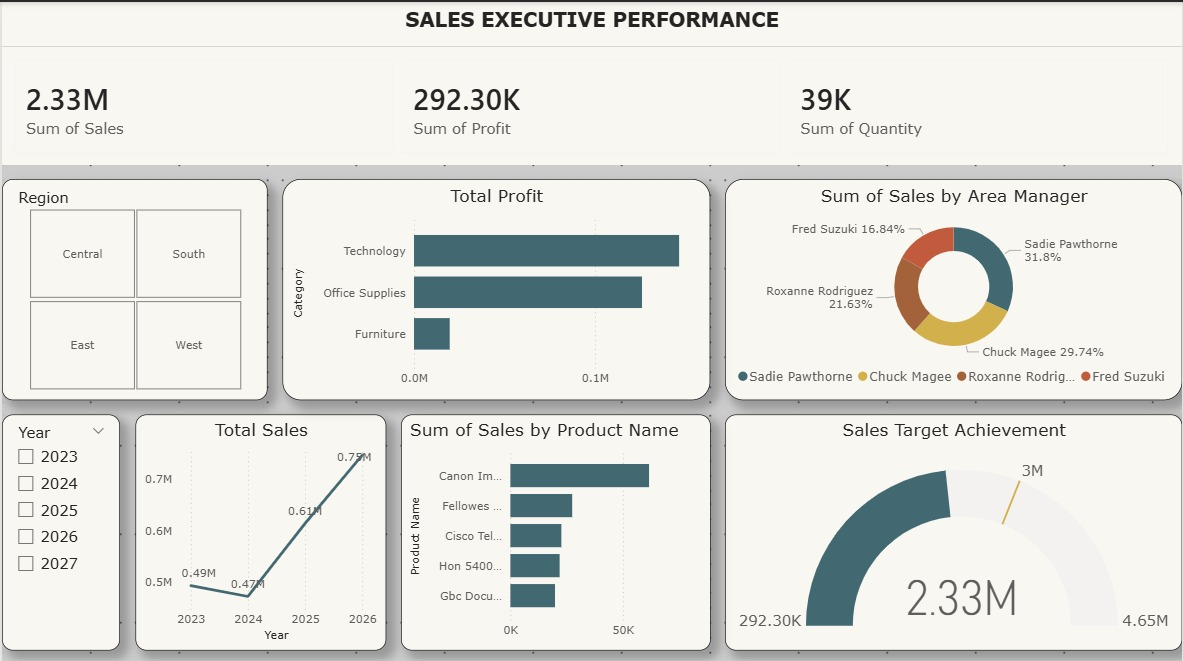

This screenshot's page, from the dashboard's own definition file:
{"tool":"powerbi","page":{"name":"Page 1","canvas":[1280,720],"ordinal":0},"visuals":[{"type":"donutChart","fields":{"Category":["People.Area Manager"],"Y":["Sum(Orders.Sales)"]},"box":[784,192,496,240],"z":0},{"type":"slicer","fields":{"Values":["Orders.Region"]},"box":[0,192,288,240],"z":2000},{"type":"lineChart","title":"Total Sales","fields":{"Category":["Orders.Order Date.Variation.Date Hierarchy.Year","Orders.Order Date.Variation.Date Hierarchy.Quarter","Orders.Order Date.Variation.Date Hierarchy.Month","Orders.Order Date.Variation.Date Hierarchy.Day"],"Y":["Sum(Orders.Sales)"]},"box":[144,448,272,256],"z":3000},{"type":"clusteredBarChart","title":"Total Profit","fields":{"Category":["Orders.Category"],"Y":["Sum(Orders.Profit)"]},"box":[304,192,464,240],"z":4000},{"type":"gauge","title":"Sales Target Achievement","fields":{"MinValue":["Sum(Orders.Profit)"],"TargetValue":["Orders.Target Sales"],"Y":["Sum(Orders.Sales)"]},"box":[784,448,496,256],"z":5000},{"type":"slicer","fields":{"Values":["Orders.Ship Date.Variation.Date Hierarchy.Year"]},"box":[0,448,128,256],"z":6000},{"type":"cardVisual","fields":{"Data":["Sum(Orders.Sales)","Sum(Orders.Profit)","Sum(Orders.Quantity)"]},"box":[0,48,1280,128],"z":7000},{"type":"clusteredBarChart","fields":{"Category":["Orders.Product Name"],"Y":["Sum(Orders.Sales)"]},"box":[432,448,336,256],"z":8000},{"type":"textbox","box":[0,0,1280,48],"z":9000}]}

Visuals, with their boxes in screenshot pixels (x1, y1, x2, y2), scaled from the page's 1280x720 canvas onto the 1183x661 screenshot:
donutChart - People.Area Manager x Sum(Orders.Sales): 725 176 1182 397
slicer - Orders.Region: 0 176 266 397
"Total Sales" lineChart: 133 411 384 646
"Total Profit" clusteredBarChart: 281 176 710 397
"Sales Target Achievement" gauge: 725 411 1182 646
slicer - Orders.Ship Date.Variation.Date Hierarchy.Year: 0 411 118 646
cardVisual - Sum(Orders.Sales) x Sum(Orders.Profit): 0 44 1182 162
clusteredBarChart - Orders.Product Name x Sum(Orders.Sales): 399 411 710 646
textbox: 0 0 1182 44
